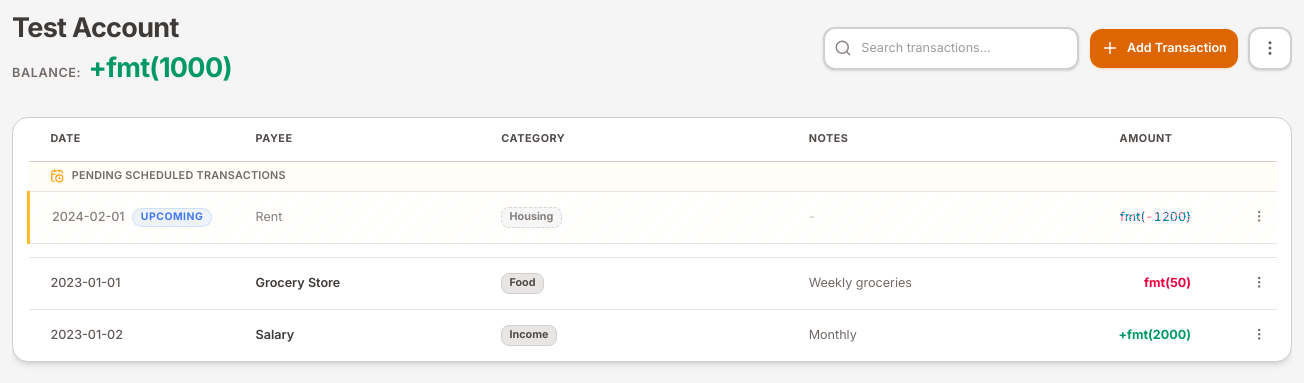
AccountDetails extended integration › filters transactions by search query
expect the text "Grocery Store" is shown: met, box 234,257 -> 480,309
Type "Salary" into the field with placeholder "Search transactions..." at (951, 48), box 823,27 -> 1079,70
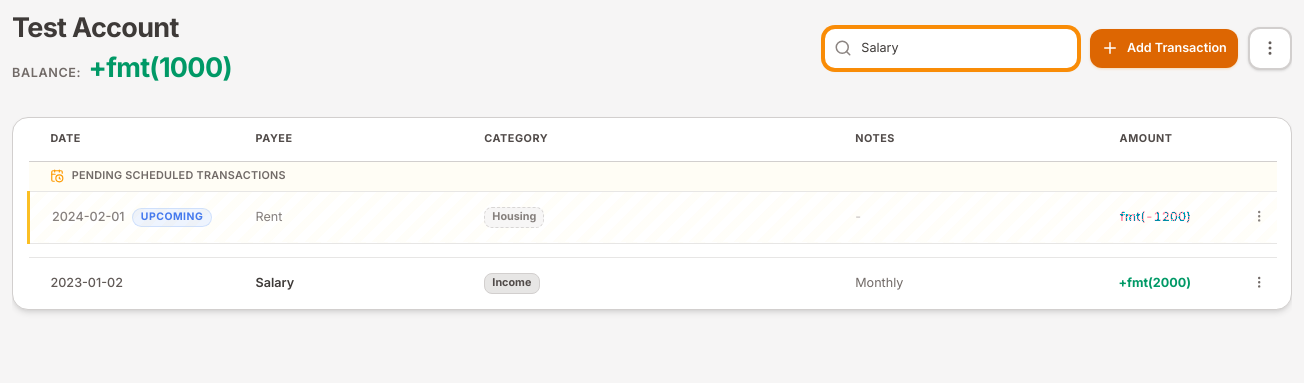
expect the text "Salary" is shown: met, box 234,257 -> 463,309
expect the text "Grocery Store" is gone: met
